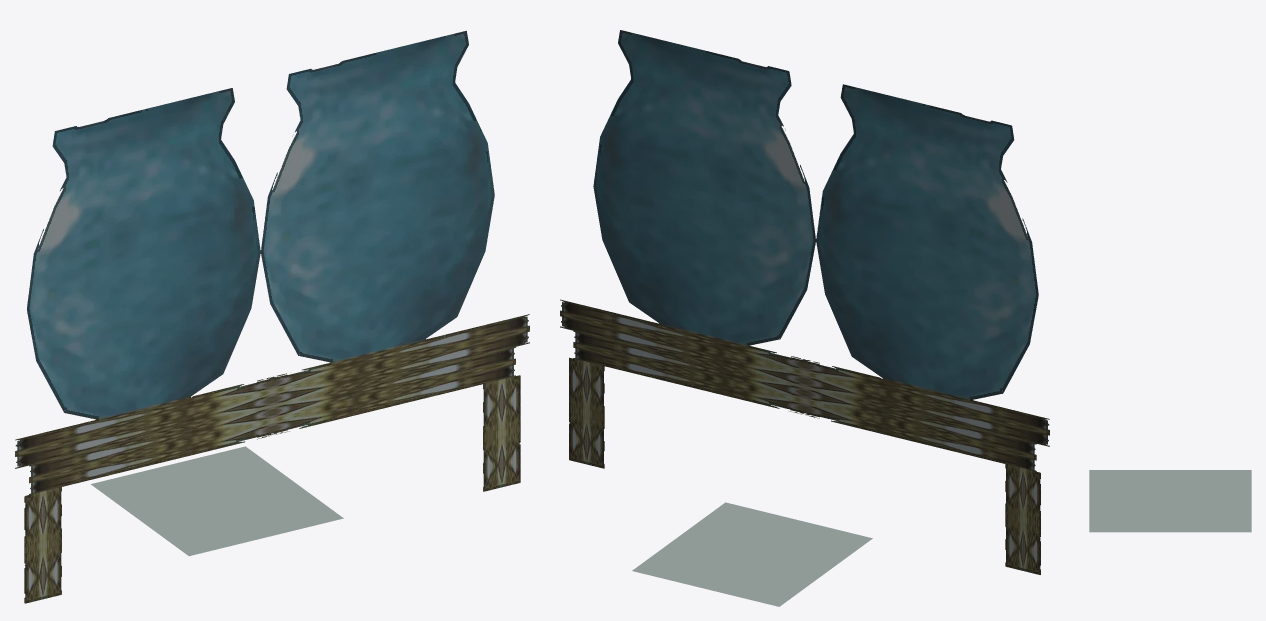
Rendered from toad-standee-rain-jars-night.glb.
3 renders of one model, left to right at view 1: azimuth 30°, elevation 25°; view 2: azimuth 150°, elevation 25°; view 3: azimuth 270°, elevation 25°, orthographic. The views are drawn at different scales.
Parts seen in each view (by area): view 1: rain-jars; view 2: rain-jars; view 3: rain-jars.
Part boxes in pixels (x1,y1,x2,y2): rain-jars: [15, 30, 529, 603]; rain-jars: [560, 30, 1049, 606]; rain-jars: [1089, 470, 1251, 532].
Size of the model in its own units: 0.1 by 0.0863 by 0.035.
Materials: 1 (1 with a texture image).
